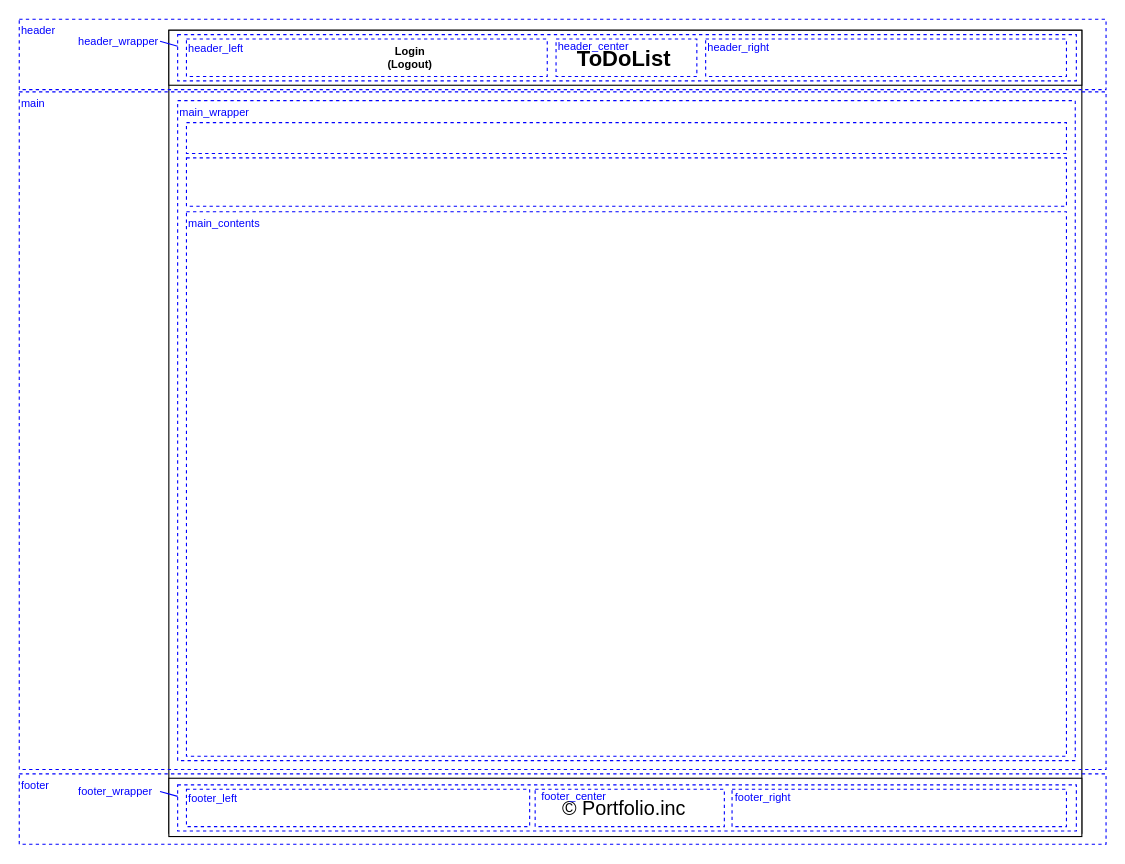
Image size: 1125x864. Some labels were removed from this diagram. The shapes that lost their labels are listed below. From the top down, each one's centre as x and y in pixels, then its label:
At (625,137): "main_message".
At (625,181): "main_title".
